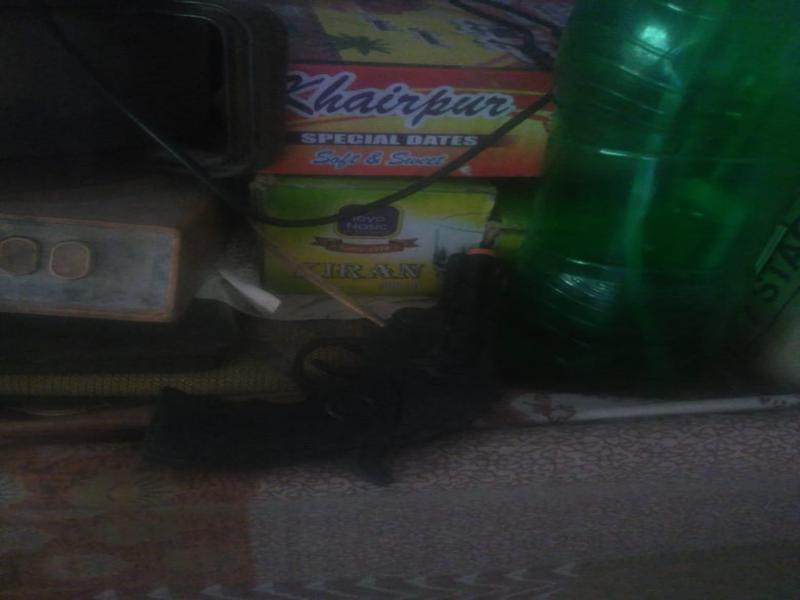gun: (146, 228, 576, 482)
